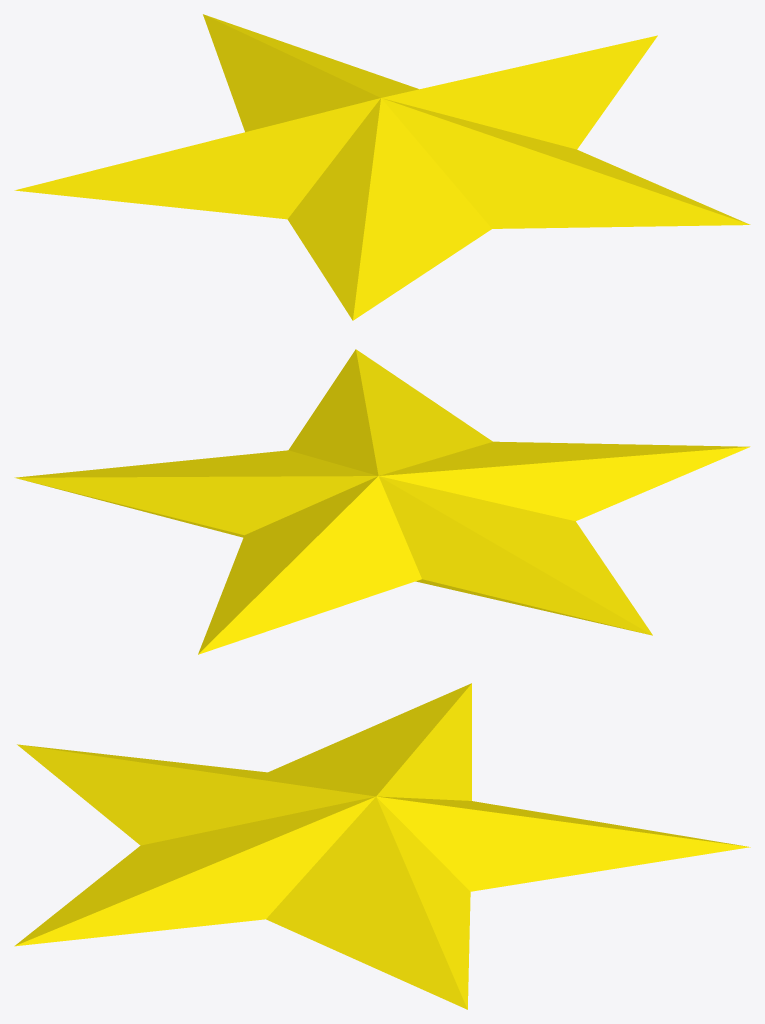
Rendered from effects.glb.
3 views of the same model, one above another, from view 1: azimuth 30°, elevation 25°; view 2: azimuth 150°, elevation 25°; view 3: azimuth 270°, elevation 25° (orthographic). The views are drawn at different scales.
Parts seen in each view (by area): view 1: estrellica; view 2: estrellica; view 3: estrellica.
Part boxes in pixels (box(x1,y1,x2,y2)): estrellica: box(14, 14, 750, 320); estrellica: box(14, 349, 750, 654); estrellica: box(14, 683, 750, 1009).
Size of the model in its own units: 15.71 by 2.27 by 14.97.
Materials: 1 (1 with a texture image).
